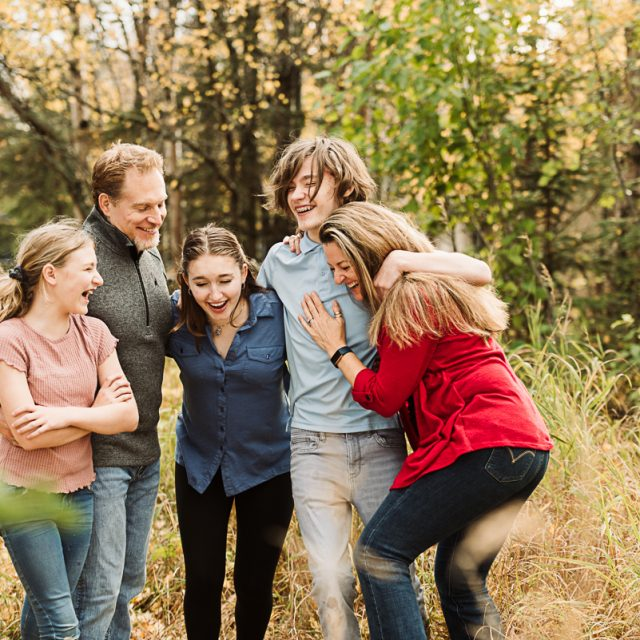human: (117, 157, 174, 250), (48, 238, 106, 317), (188, 247, 244, 322), (280, 155, 339, 226), (330, 238, 377, 299)
